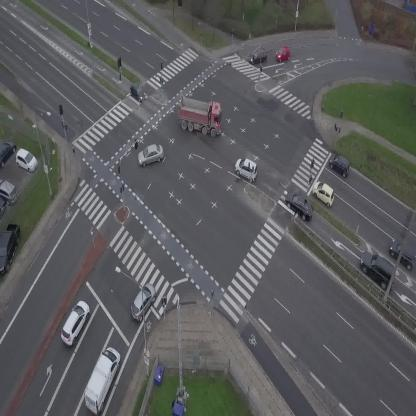car: (352, 246, 404, 293), (57, 298, 95, 348), (125, 280, 160, 323), (281, 186, 319, 224), (308, 177, 340, 208), (231, 155, 262, 183), (325, 151, 354, 178), (135, 142, 166, 167), (126, 81, 148, 104), (247, 48, 269, 65), (273, 45, 292, 62)
lorry: (78, 344, 126, 416), (175, 96, 225, 138)
